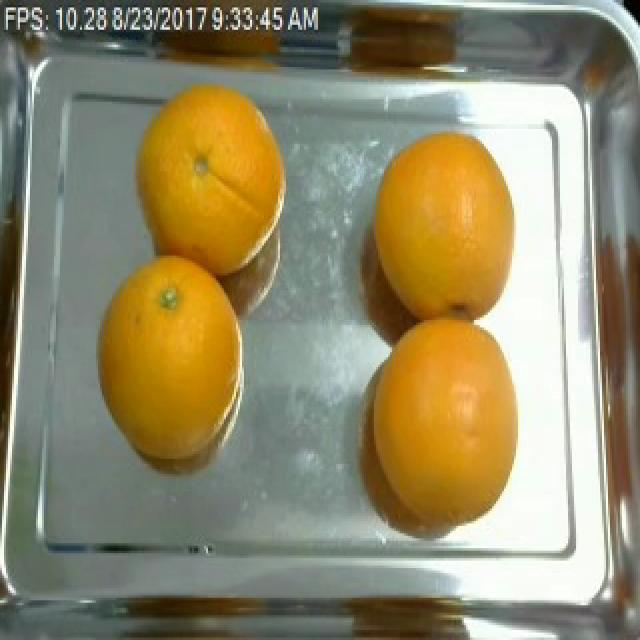Fruit: (118, 64, 306, 288), (356, 117, 528, 315), (332, 0, 474, 99), (332, 575, 484, 640)
